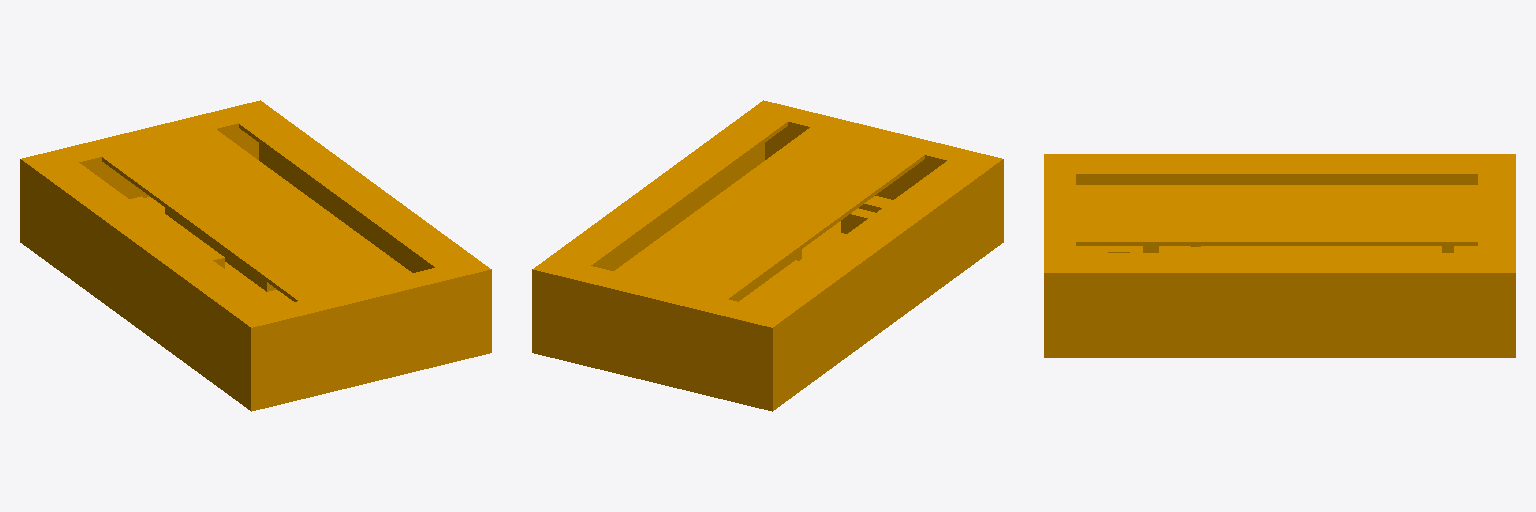
robot.urdf — imu_sens:
<?xml version="1.0" ?>
<robot name="imu_sens">

<link name="imu_sens_base_link">
  <inertial>
    <origin xyz="9.68639117668259e-06 1.1214444872813844e-05 0.0006376559404179744" rpy="0 0 0"/>
    <mass value="0.00034383352599420293"/>
    <inertia ixx="0.0" iyy="0.0" izz="0.0" ixy="0.0" iyz="0.0" ixz="0.0"/>
  </inertial>
  <visual>
    <origin xyz="0 0 0" rpy="0 0 0"/>
    <geometry>
      <mesh filename="meshes/imu_sens_base_link.stl" scale="0.001 0.001 0.001"/>
    </geometry>
    <material name="silver"/>
  </visual>
  <collision>
    <origin xyz="0 0 0" rpy="0 0 0"/>
    <geometry>
      <mesh filename="meshes/imu_sens_base_link.stl" scale="0.001 0.001 0.001"/>
    </geometry>
  </collision>
</link>

<link name="imu_sens_AP_1">
  <inertial>
    <origin xyz="1.6306400674181986e-18 0.0 -4.99235669137505e-23" rpy="0 0 0"/>
    <mass value="4.110250388446651e-06"/>
    <inertia ixx="0.0" iyy="0.0" izz="0.0" ixy="-0.0" iyz="0.0" ixz="0.0"/>
  </inertial>
  
  
</link>

<joint name="Rigid 2" type="fixed">
  <origin xyz="0.0 0.0 0.0" rpy="0 0 0"/>
  <parent link="imu_sens_base_link"/>
  <child link="imu_sens_AP_1"/>
</joint>

</robot>

--- Facts derived from the render (not from the file) ---
Views: 3 orthographic renders of the robot side by side, from view 1: azimuth 30°, elevation 25°; view 2: azimuth 150°, elevation 25°; view 3: azimuth 270°, elevation 25°.
Robot: imu_sens — 2 links, 1 joints (1 fixed); root link imu_sens_base_link; default pose: all joints at 0.
Visible links, largest first — view 1: imu_sens_base_link; view 2: imu_sens_base_link; view 3: imu_sens_base_link.
Boxes of the visible links, x1,y1,x2,y2 form: imu_sens_base_link: [20, 100, 491, 411]; imu_sens_base_link: [532, 100, 1003, 411]; imu_sens_base_link: [1044, 154, 1515, 357].
Size in the robot's own frame: 0.006 by 0.01 by 0.002 metres.
Meshes: 1 distinct files referenced, 1 mesh visuals loaded (1 binary STL).